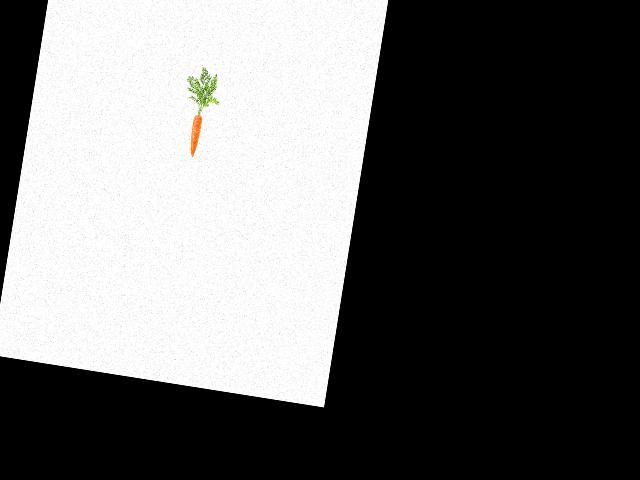carrot: (187, 112, 205, 159)
